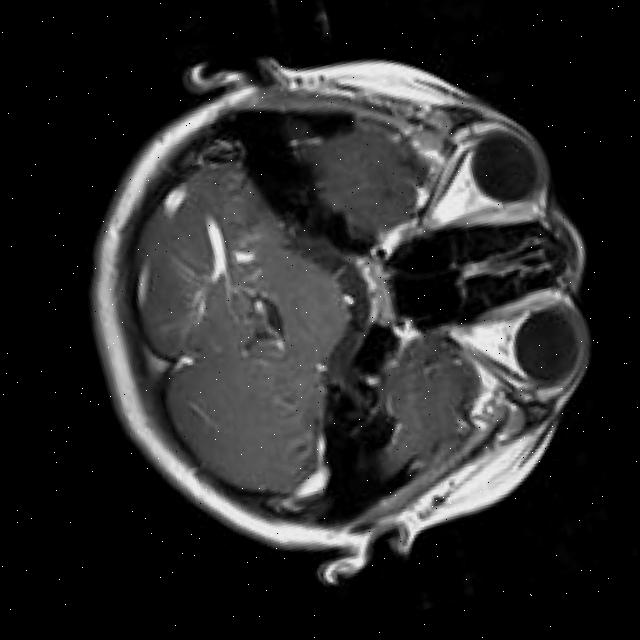NoTumor: (46, 41, 523, 598)
